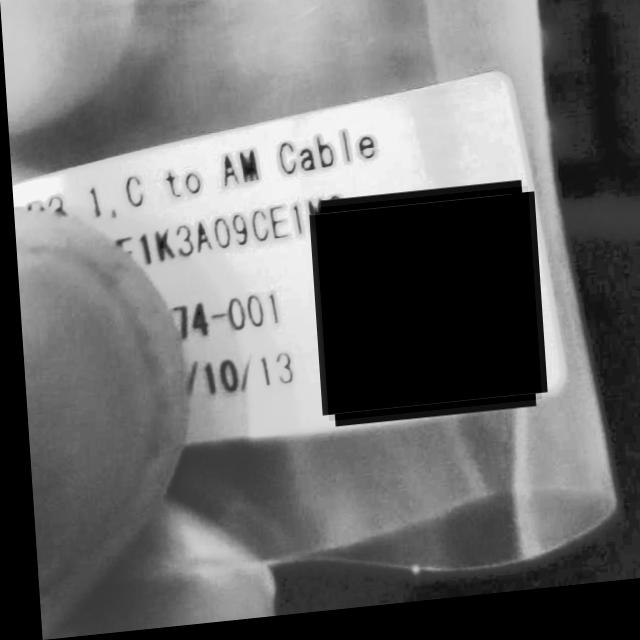qr_code: (312, 197, 536, 428)
